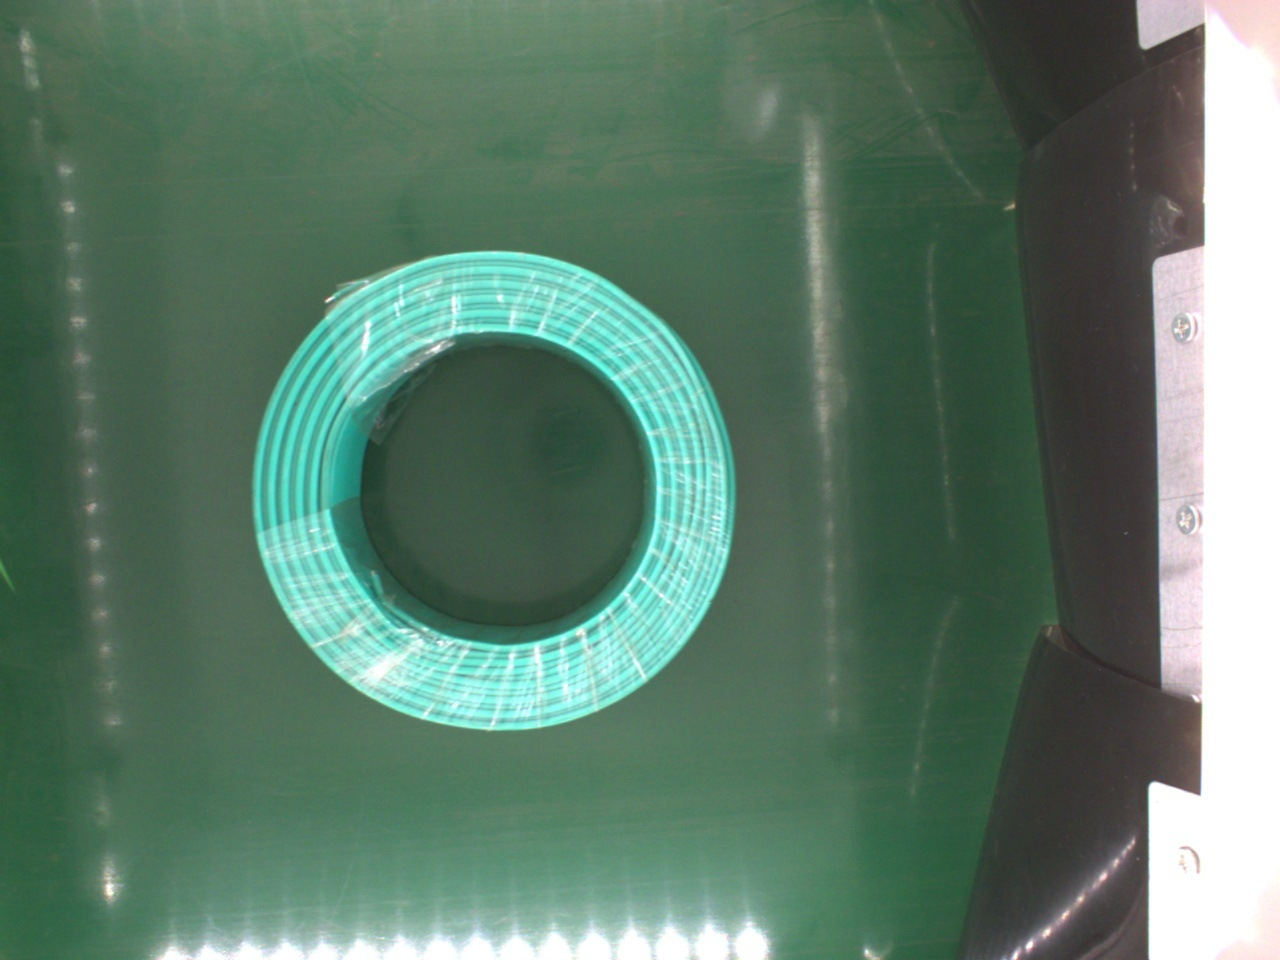green: (246, 252, 736, 736)
